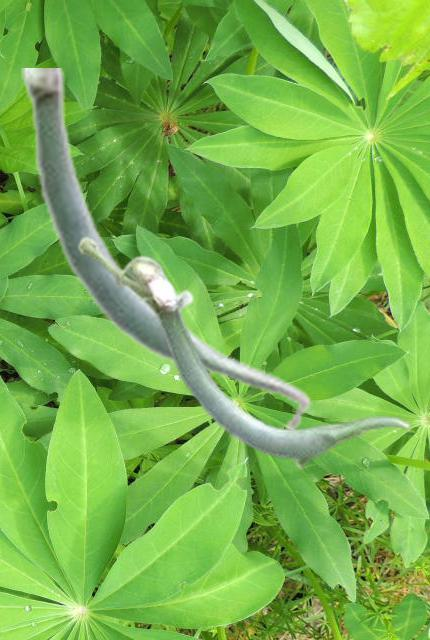french_bean: (21, 68, 311, 428), (77, 235, 410, 469)
